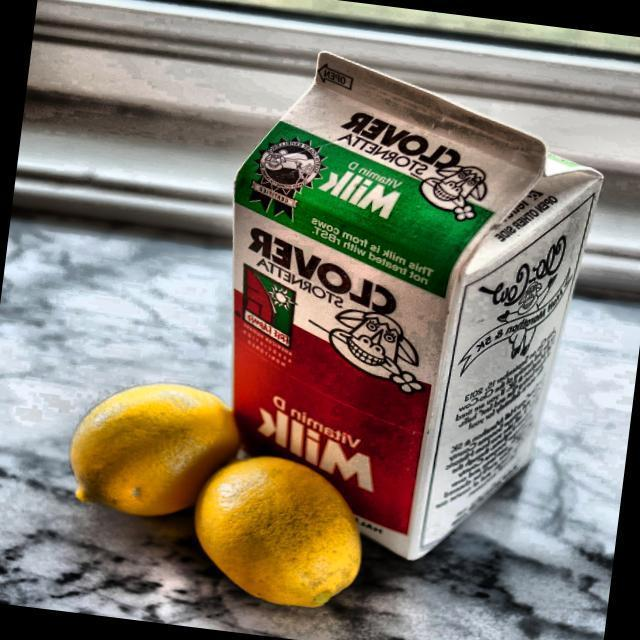cardboard: (190, 41, 616, 578)
